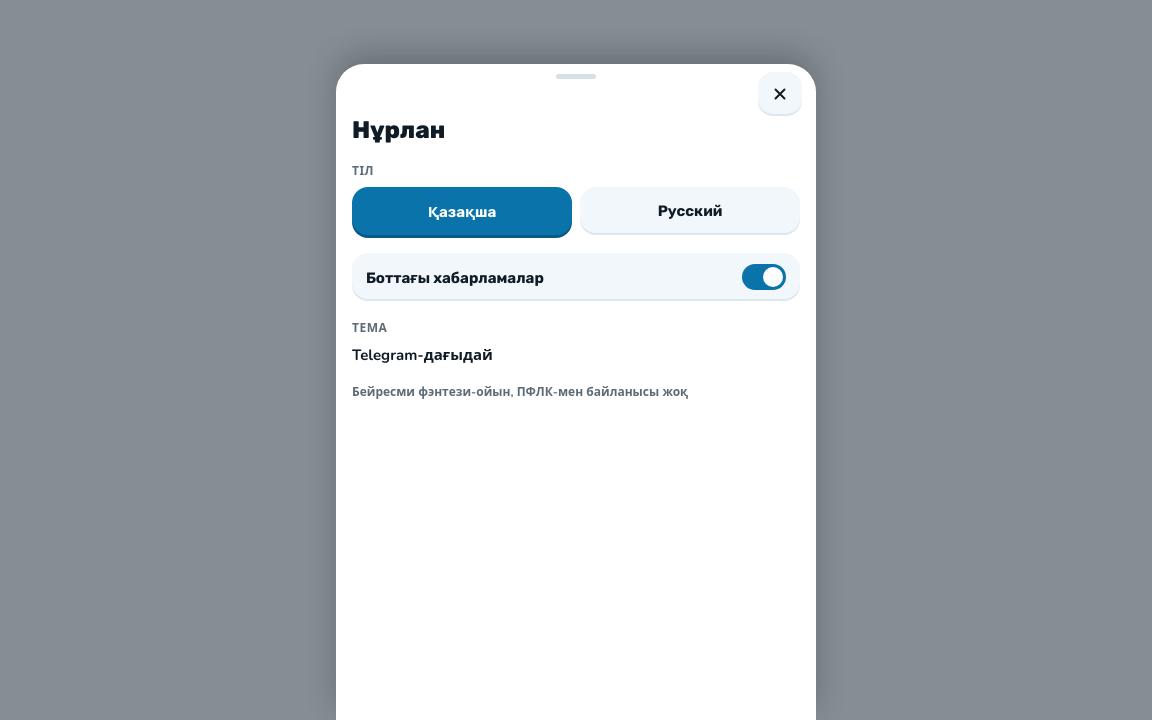
Test: Profile › смена языка сразу меняет подписи
Expected: the text "Тіл" is shown, [352,163,374,179]
Click the button "Русский".
click(690, 211)  # box [580,187,800,235]
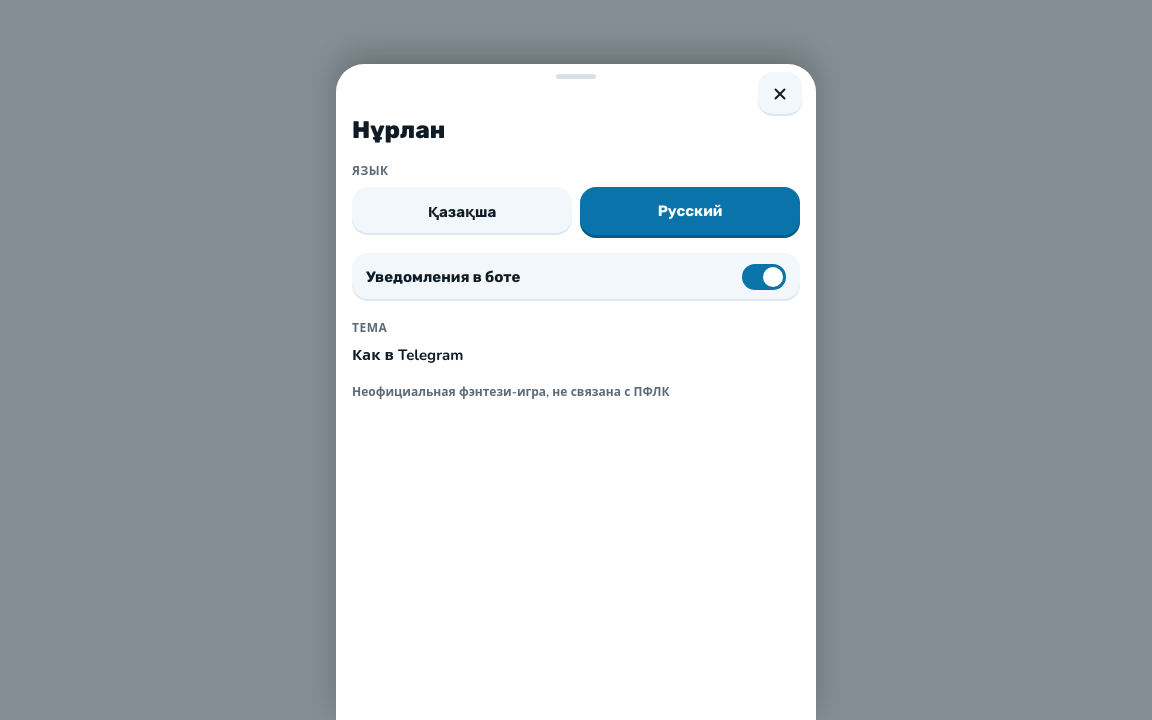
Expected: the text "Язык" is shown, [352,163,389,179]
Expected: the text "Неофициальная фэнтези-игра, не связана с ПФЛК" is shown, [352,384,670,400]
